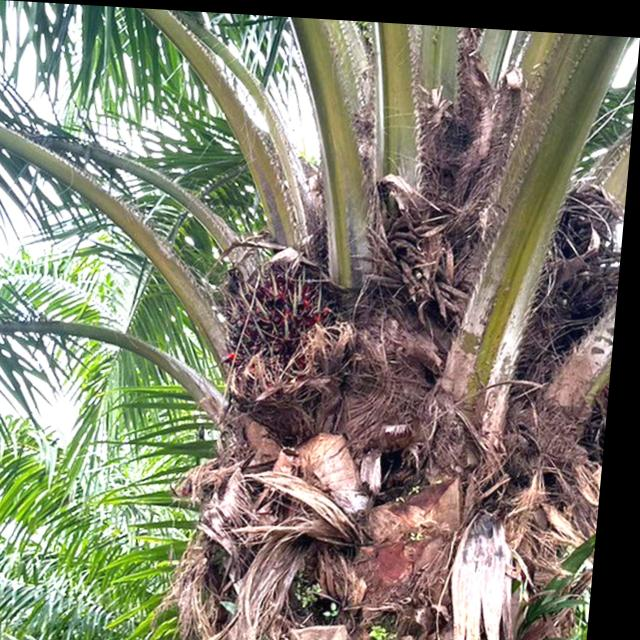ripe: (208, 249, 361, 392)
